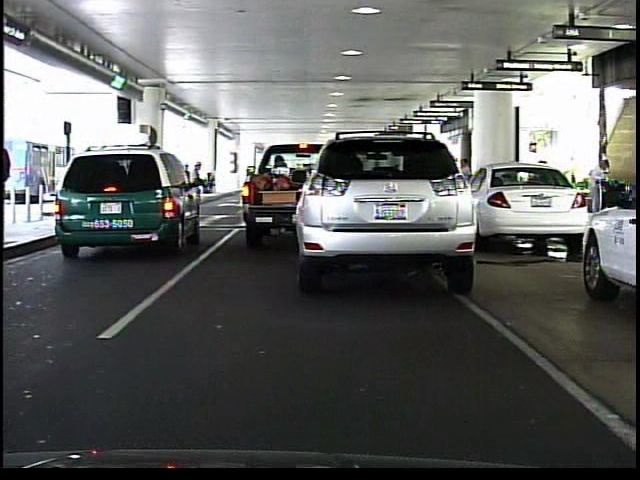person: (185, 159, 212, 226), (455, 155, 474, 207)
